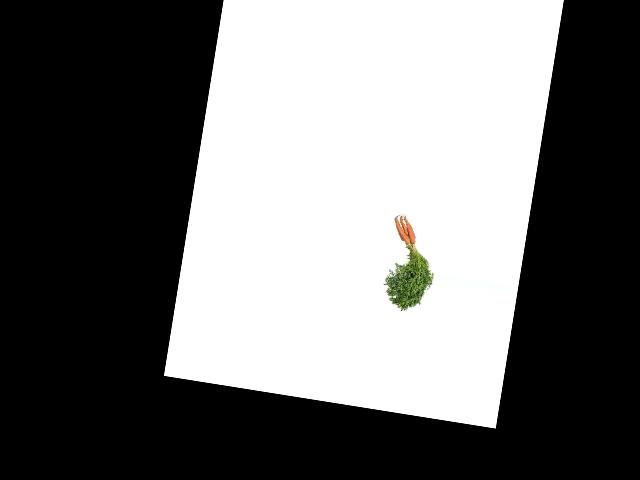carrot: (390, 218, 413, 246)
